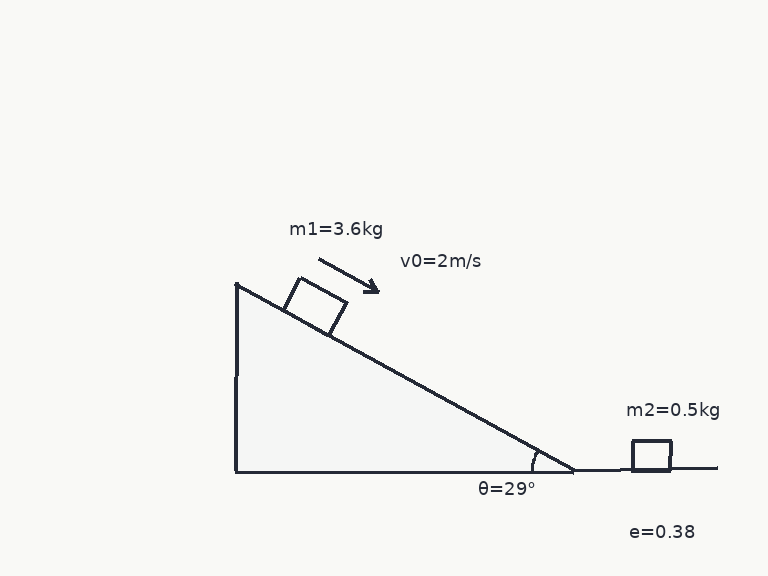block: (281, 275, 348, 337), (629, 439, 673, 472)
ramp: (233, 281, 574, 472)
